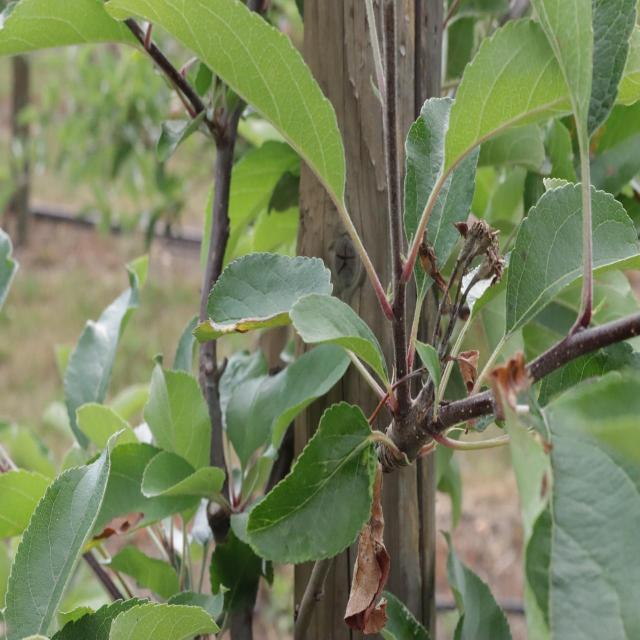-FireBlight-: (351, 456, 396, 633)
